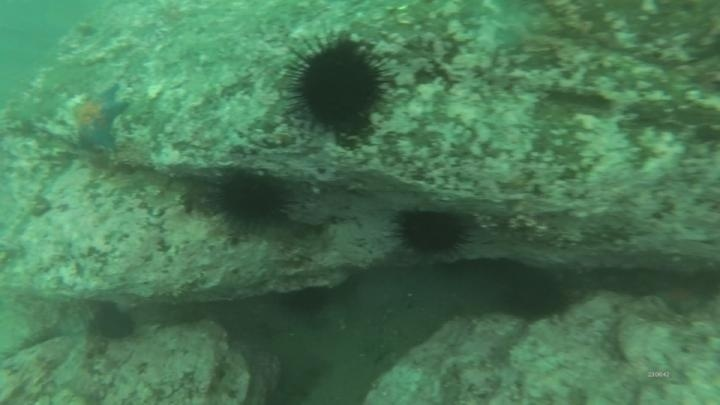echinus: (285, 32, 393, 137), (208, 166, 294, 233), (390, 203, 474, 260), (498, 265, 574, 324), (89, 300, 138, 344), (282, 284, 332, 318)
holothurian: (6, 61, 66, 131)
starfish: (69, 83, 131, 154), (654, 280, 709, 318)
